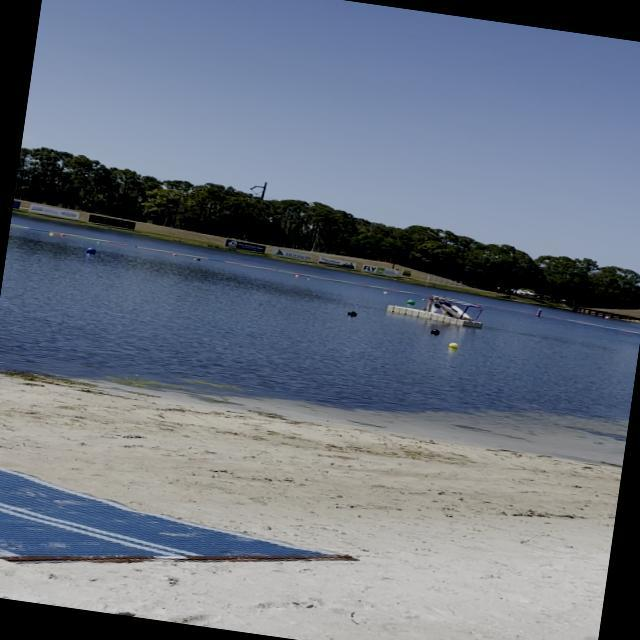buoy: (86, 246, 96, 254), (407, 298, 416, 306), (348, 310, 358, 317), (448, 341, 458, 348), (430, 328, 440, 334)
